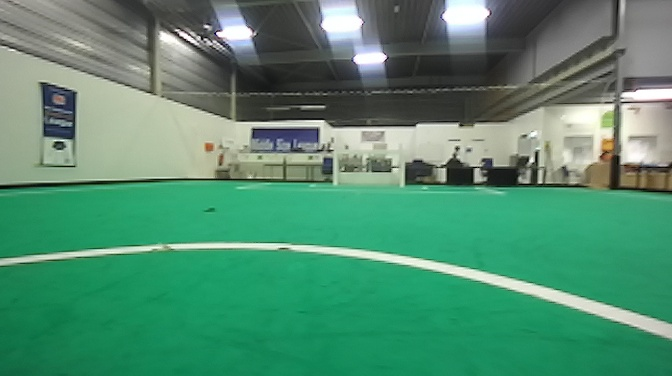goalpost: (390, 142, 412, 190), (328, 147, 342, 187)
